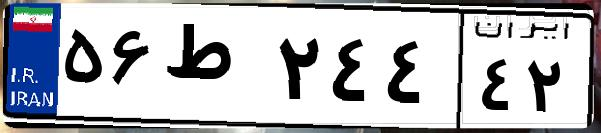2: (270, 28, 330, 110), (525, 38, 570, 115)
4: (385, 28, 445, 110), (330, 28, 385, 110), (475, 38, 525, 113)
5: (57, 26, 110, 100)
6: (110, 28, 158, 98)
ط: (158, 20, 270, 120)
